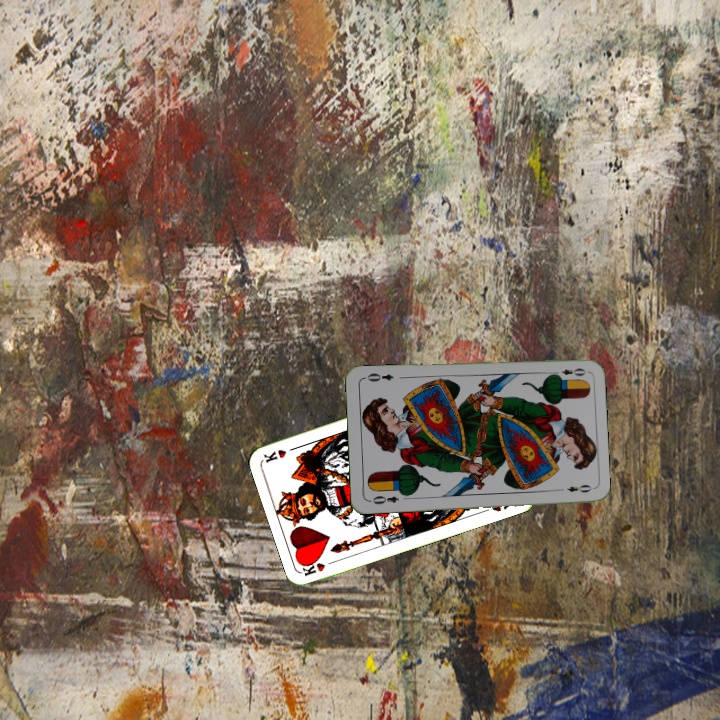EO: (548, 364, 588, 380), (365, 492, 401, 507)
HK: (299, 556, 340, 579)
